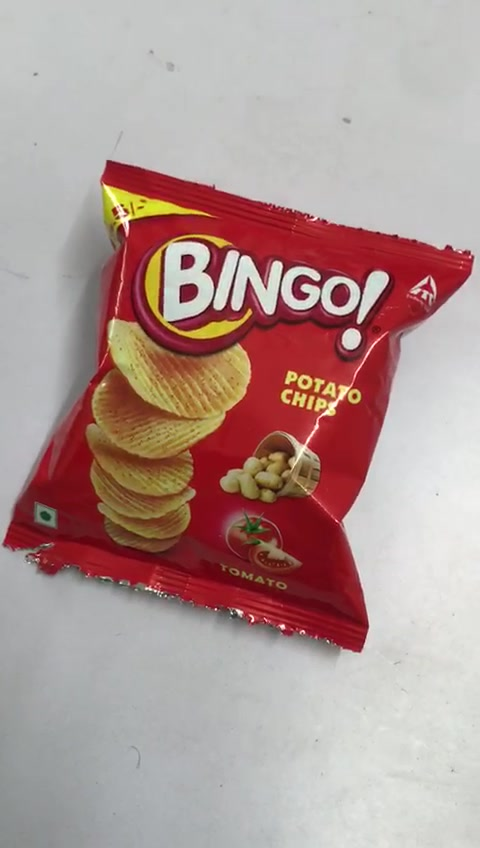bingo: (2, 139, 474, 656)
